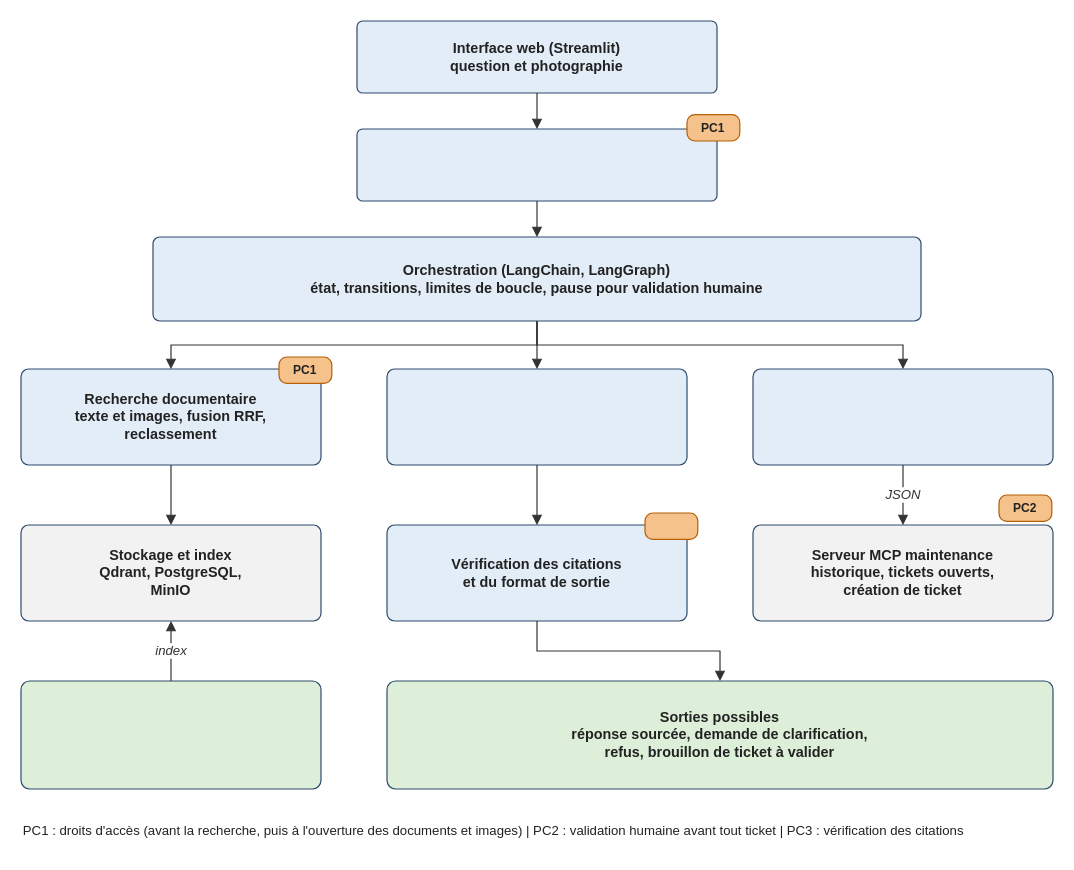
The diagram is 1074 pixels wide and 870 high, and some of its shapes have lost their labels. Here are the shapes that lost their labels. From the top down, the centre of each, then its label:
At pixel 536 164: "API (FastAPI) authentification, groupes, droits".
At pixel 536 416: "Modèle vision-langage description de la photo, rédaction de la réponse".
At pixel 902 416: "Client MCP appels à l'outil de maintenance".
At pixel 671 525: "PC3".
At pixel 170 734: "Ingestion (hors ligne) PyMuPDF, OCR local, découpage, embeddings".
